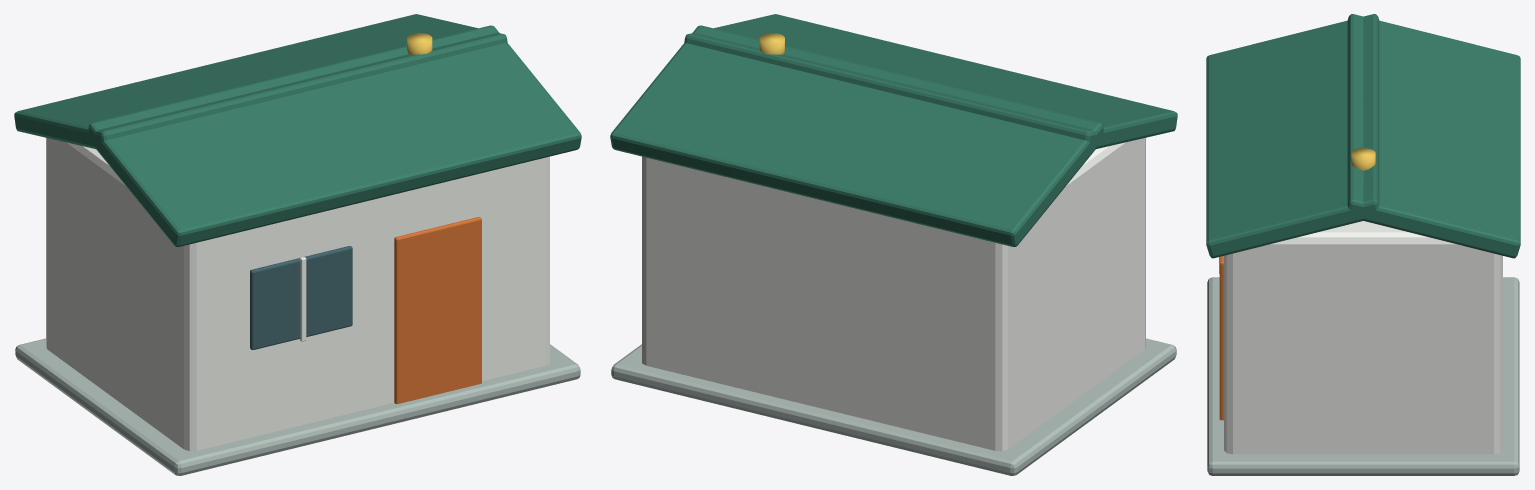
The model's file is station.glb.
3 views of the same model, side by side, from view 1: azimuth 30°, elevation 25°; view 2: azimuth 150°, elevation 25°; view 3: azimuth 270°, elevation 25° (orthographic). The views are drawn at different scales.
Visible parts, largest first — view 1: tyaga-station-surface; view 2: tyaga-station-surface; view 3: tyaga-station-surface.
Boxes of the visible parts, x1,y1,x2,y2 form: tyaga-station-surface: (14,14,581,475); tyaga-station-surface: (610,14,1177,475); tyaga-station-surface: (1206,14,1520,475).
Bounding box in the file's own units: 4 × 2.84 × 2.82.
